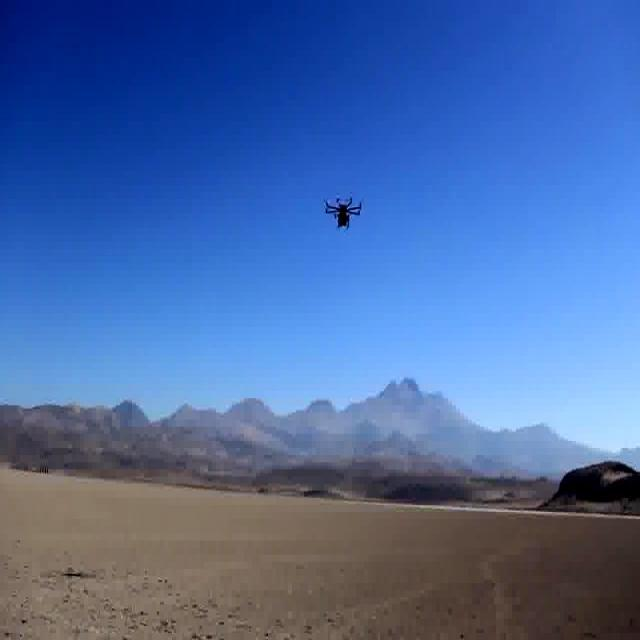drone: (322, 186, 364, 233)
